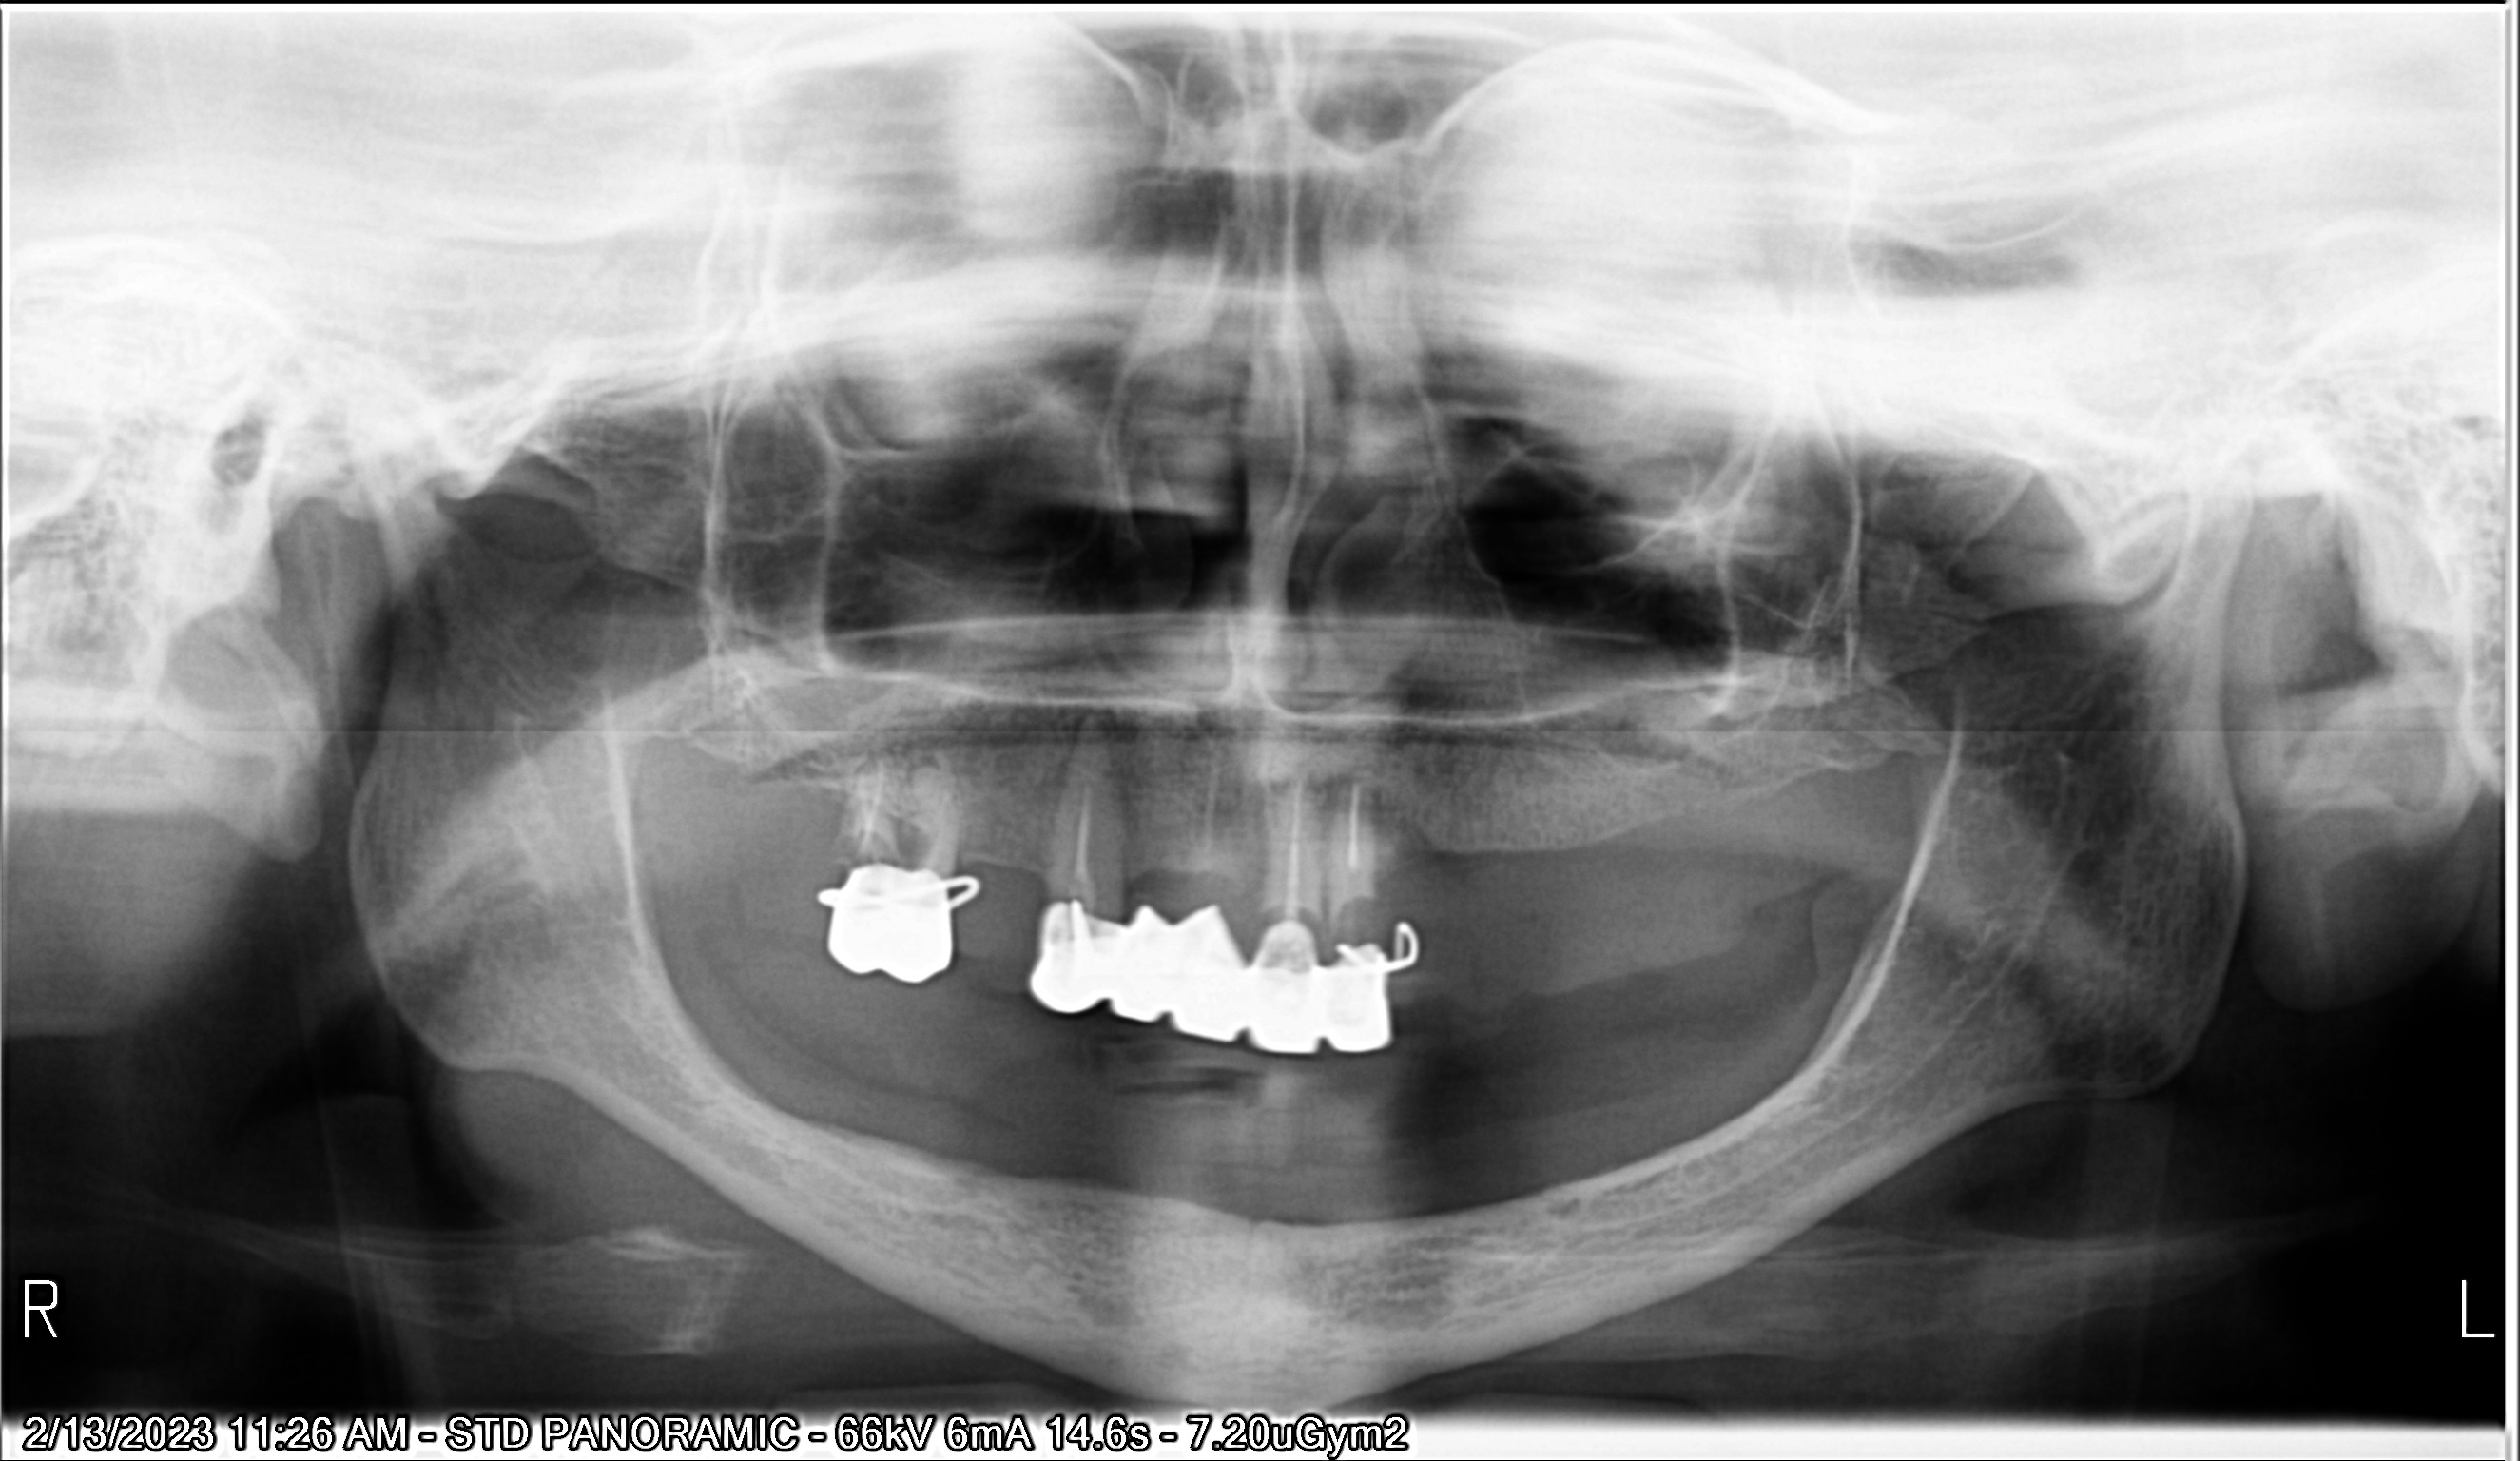BON: (653, 357, 2075, 1301), (570, 390, 1844, 1338), (468, 374, 1533, 1284), (424, 367, 1425, 1270)
END: (650, 310, 2021, 1216), (615, 296, 1929, 1235), (506, 306, 1615, 1219), (388, 306, 1286, 1174)
PRR: (534, 381, 1967, 1440), (401, 360, 1651, 1416), (320, 360, 1303, 1350)
